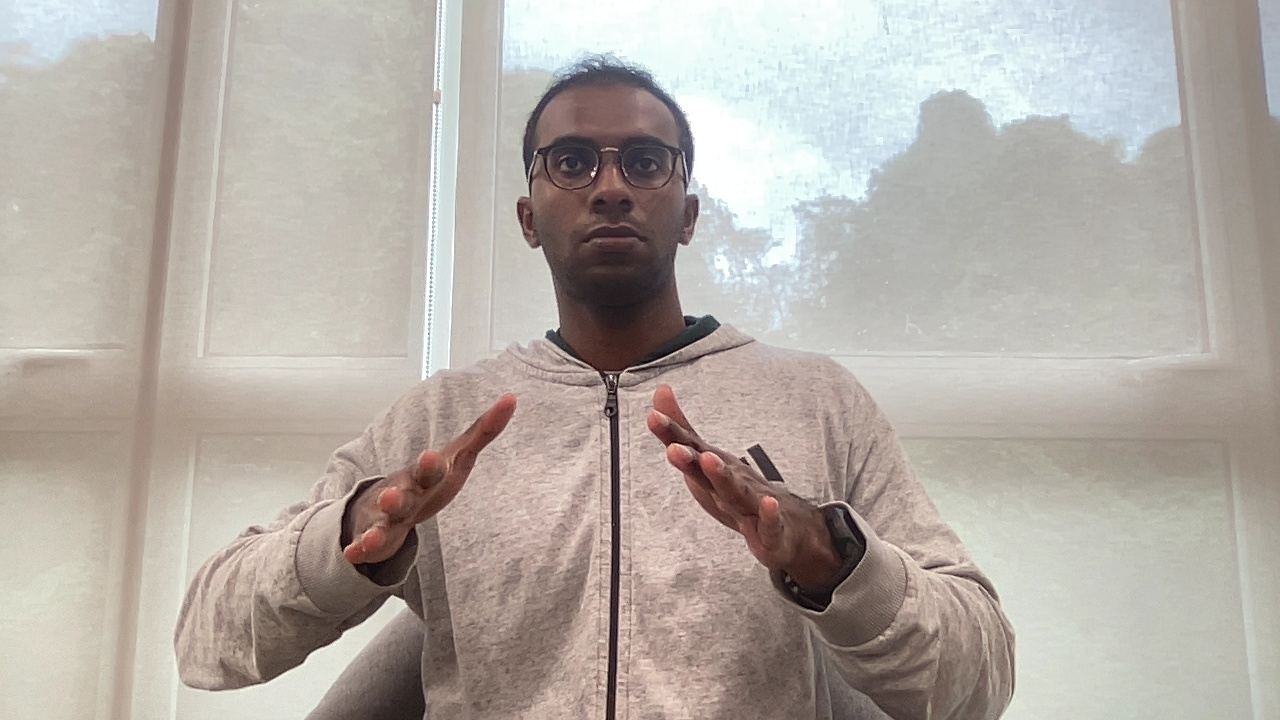finish: (342, 384, 822, 583)
